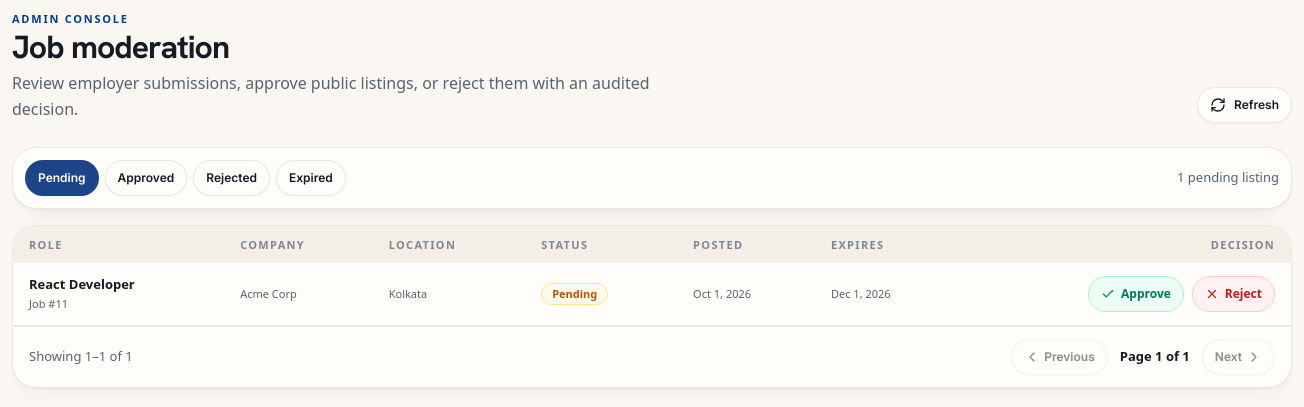
Test: AdminJobsPage › filters by status and hides moderation actions outside pending
expect the text "React Developer" is shown: met, box 29,275 -> 135,293
Click the button "approved".
click(146, 178)  # box 105,160 -> 187,196
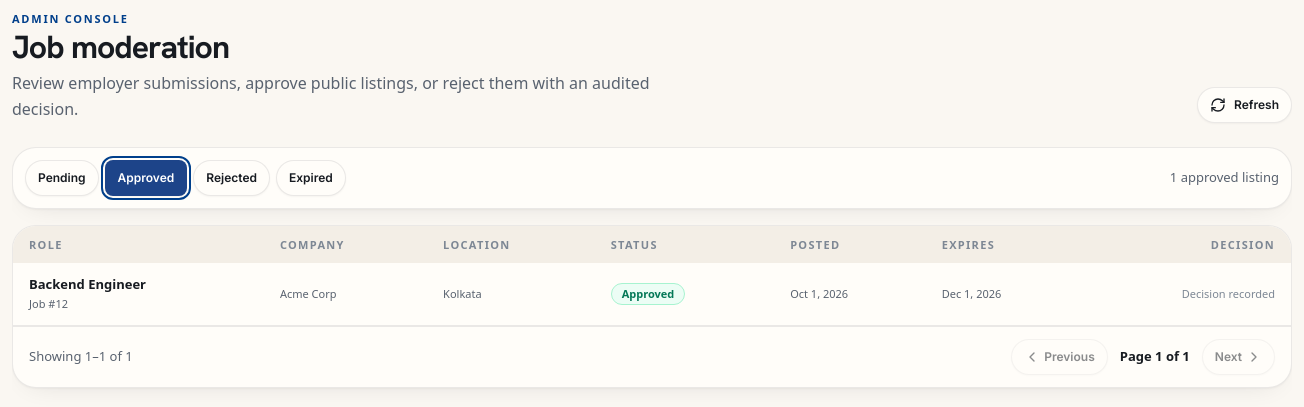
expect the text "Backend Engineer" is shown: met, box 29,275 -> 146,293
expect the text "Decision recorded" is shown: met, box 1182,286 -> 1275,301
